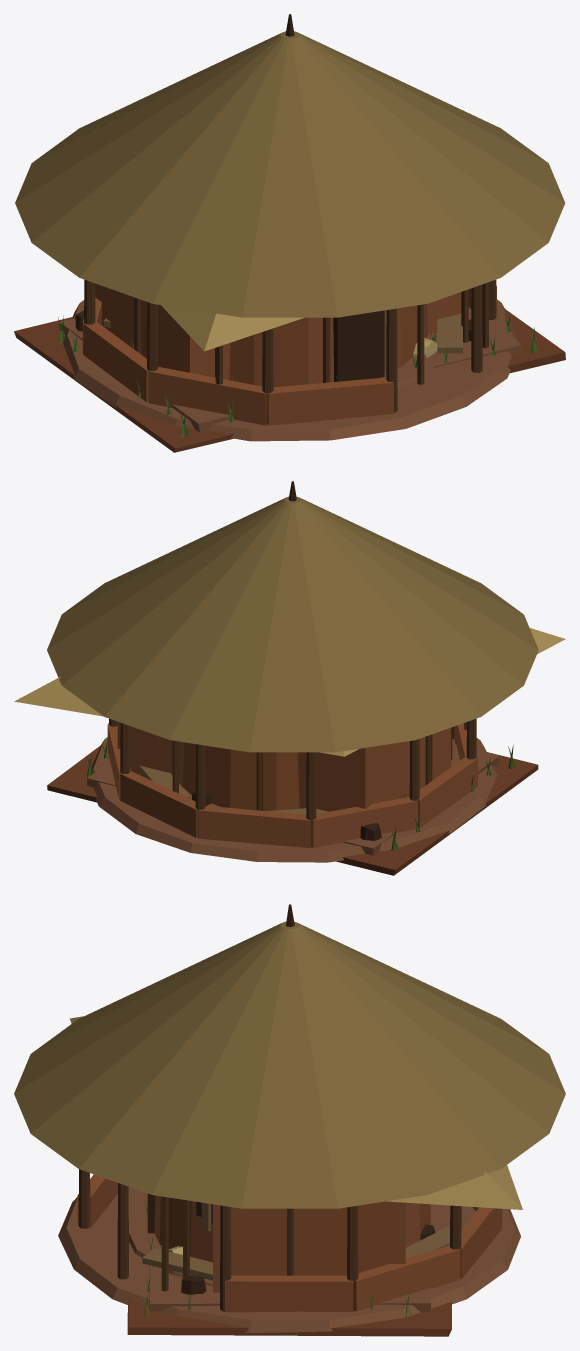
File: gbelewala.glb
The picture shows the model from 3 angles, top to bottom: view 1: azimuth 30°, elevation 25°; view 2: azimuth 150°, elevation 25°; view 3: azimuth 270°, elevation 25°; orthographic projection. The views are drawn at different scales.
Parts seen in each view (by area): view 1: palaver_hut, house_round, house_long, rice_farm; view 2: palaver_hut, house_long, house_round, rice_farm; view 3: palaver_hut, house_long, house_round, rice_farm.
Part boxes in pixels (x1=…): palaver_hut: x1=15, y1=14, x2=565, y2=441; house_round: x1=134, y1=289, x2=468, y2=387; house_long: x1=59, y1=282, x2=521, y2=432; rice_farm: x1=14, y1=309, x2=565, y2=452; palaver_hut: x1=47, y1=481, x2=538, y2=862; house_long: x1=14, y1=628, x2=565, y2=855; house_round: x1=172, y1=727, x2=452, y2=811; rice_farm: x1=47, y1=741, x2=538, y2=875; palaver_hut: x1=14, y1=904, x2=565, y2=1332; house_long: x1=69, y1=1016, x2=522, y2=1312; house_round: x1=128, y1=1191, x2=461, y2=1286; rice_farm: x1=127, y1=1200, x2=451, y2=1336.
Bounding box in the file's own units: 8.47 × 5.81 × 8.6.
